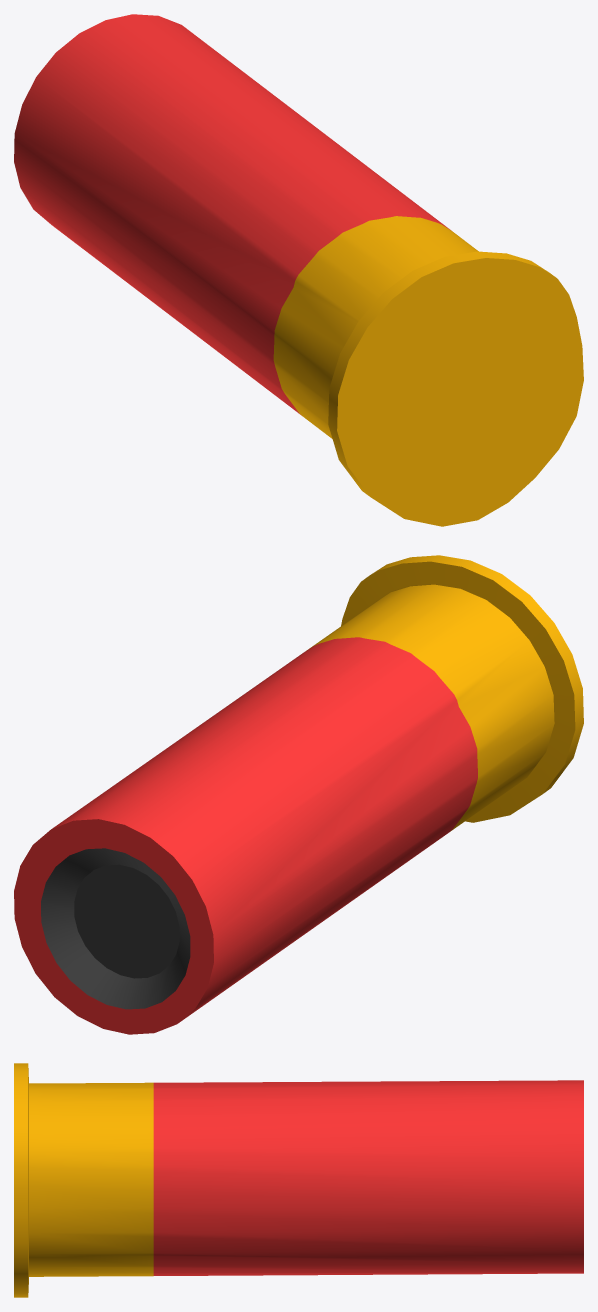
File: Shot_GunBullet.fbx
The picture shows the model from 3 angles, top to bottom: view 1: azimuth 30°, elevation 25°; view 2: azimuth 150°, elevation 25°; view 3: azimuth 270°, elevation 25°; orthographic projection. The views are drawn at different scales.
Parts seen in each view (by area): view 1: Shot_GunBullet; view 2: Shot_GunBullet; view 3: Shot_GunBullet.
Boxes of the visible parts, bbox=[...] form: Shot_GunBullet: bbox=[14, 14, 583, 526]; Shot_GunBullet: bbox=[14, 555, 583, 1034]; Shot_GunBullet: bbox=[14, 1063, 583, 1297].
Size of the model in its own units: 0.2839 by 0.2889 by 0.7009.
